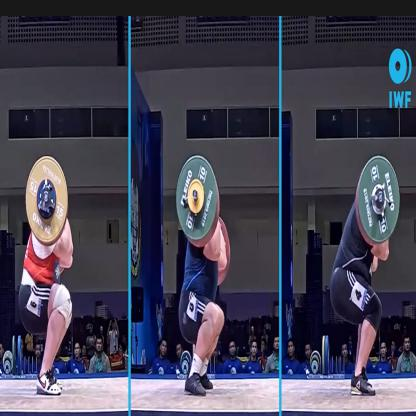Barbell: (172, 150, 222, 248), (355, 151, 403, 252), (24, 153, 72, 250)
